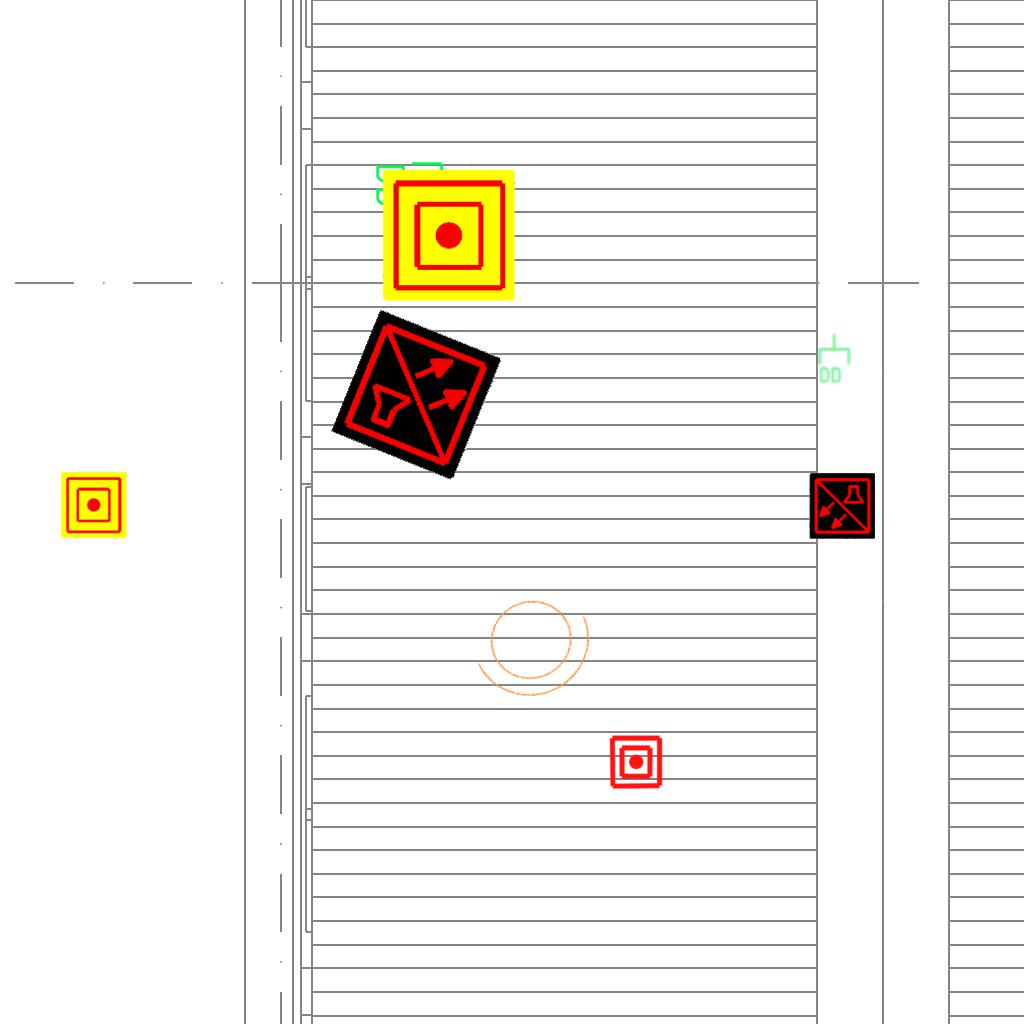Datenanschluss_zweifach: (372, 158, 475, 227), (817, 333, 851, 384)
NAM-Nichtautomatischer_Melder: (383, 169, 515, 301), (61, 472, 127, 538), (608, 734, 664, 790)
OKW_Multisensormelder_(Kombination_optischer_Rauch-Kahlenmonoxid_Waerme-Melder): (331, 309, 503, 481), (809, 473, 875, 539)
Scheinwerfer_fuer_Alarmbeleuchtung: (452, 564, 620, 722)
